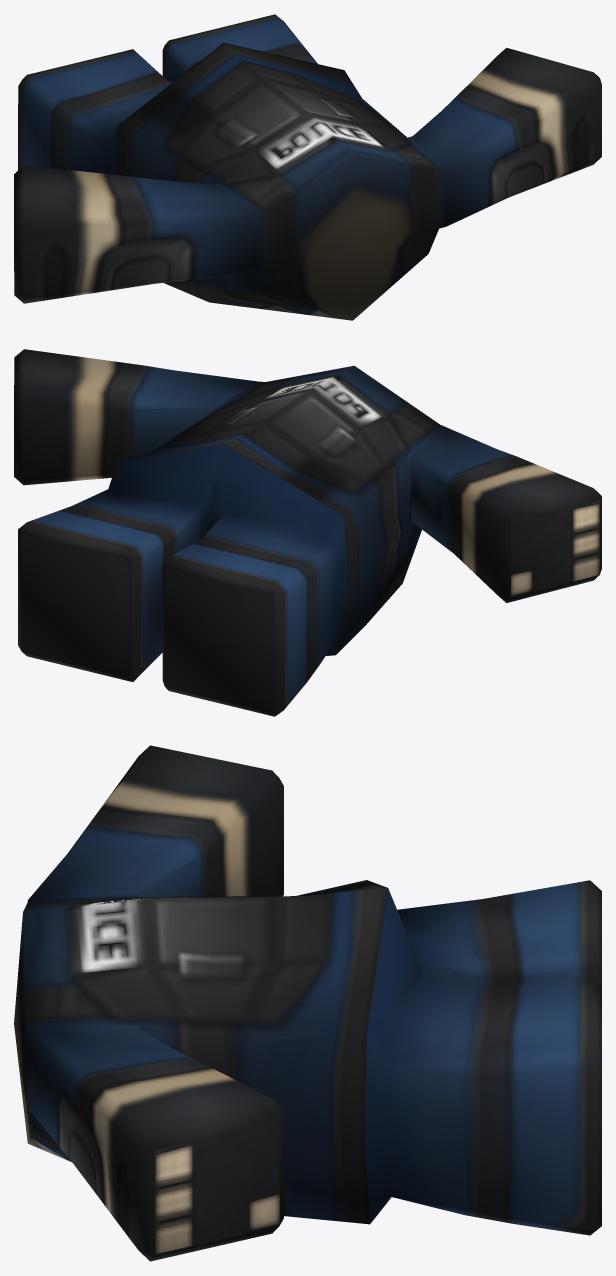
The model's file is Avatar_Swat_H_01_Body_4cd947a1__Avatar_Swat_A_04c623a2_c1f257.obj.
The picture shows the model from 3 angles, top to bottom: view 1: azimuth 30°, elevation 25°; view 2: azimuth 150°, elevation 25°; view 3: azimuth 270°, elevation 25°; orthographic projection. The views are drawn at different scales.
Size of the model in its own units: 1.41 by 0.504 by 0.882.
1 material, 1 textured.
